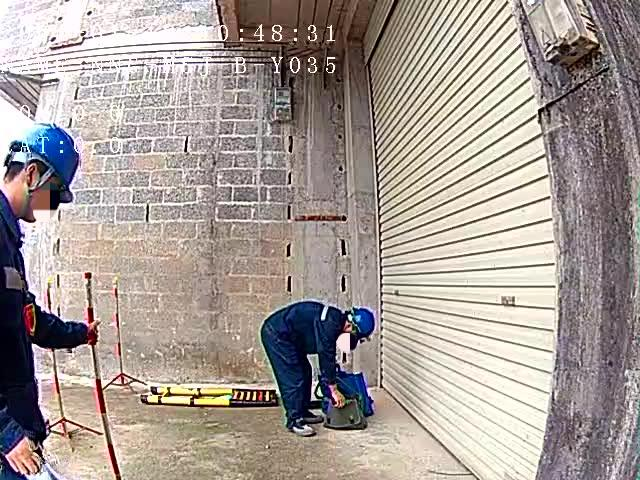halt: (3, 126, 83, 223), (342, 308, 381, 347)
inear: (21, 158, 48, 206)
